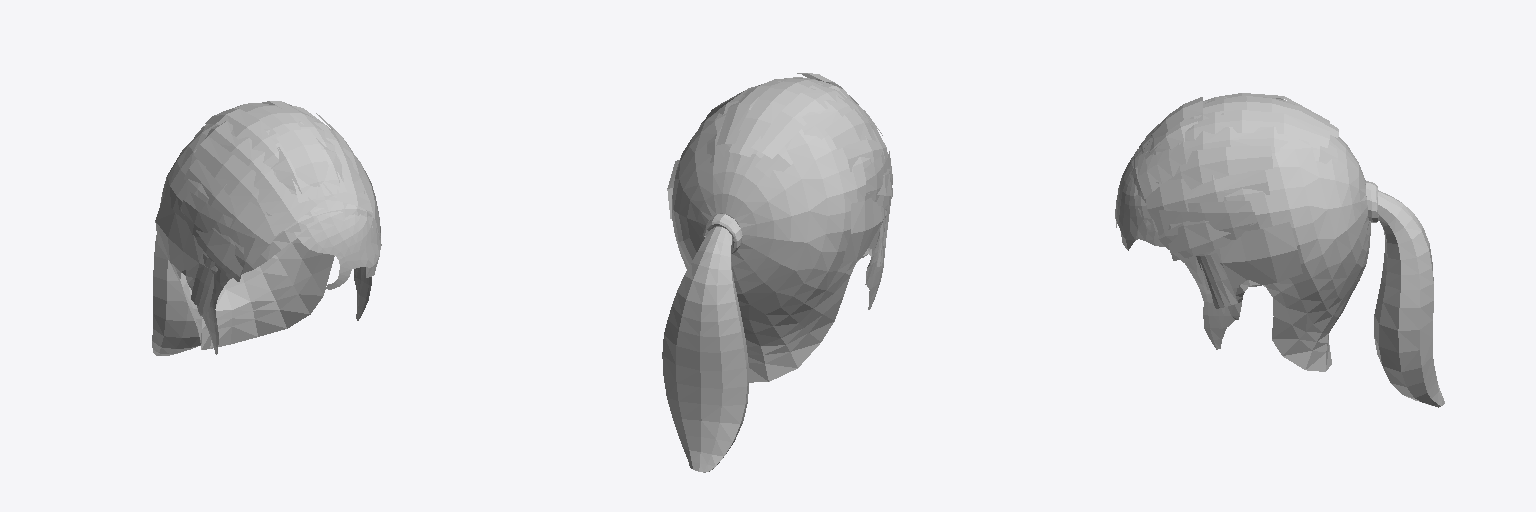
The model's file is hair_001.obj.
The picture shows the model from 3 angles: view 1: azimuth 30°, elevation 25°; view 2: azimuth 150°, elevation 25°; view 3: azimuth 270°, elevation 25°; orthographic projection.
Bounding box in the file's own units: 16.81 × 26.94 × 25.99.